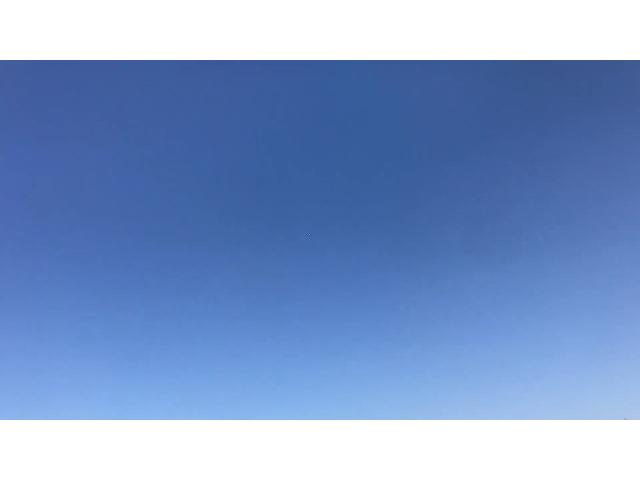Anti-Drone: (293, 227, 323, 247)
